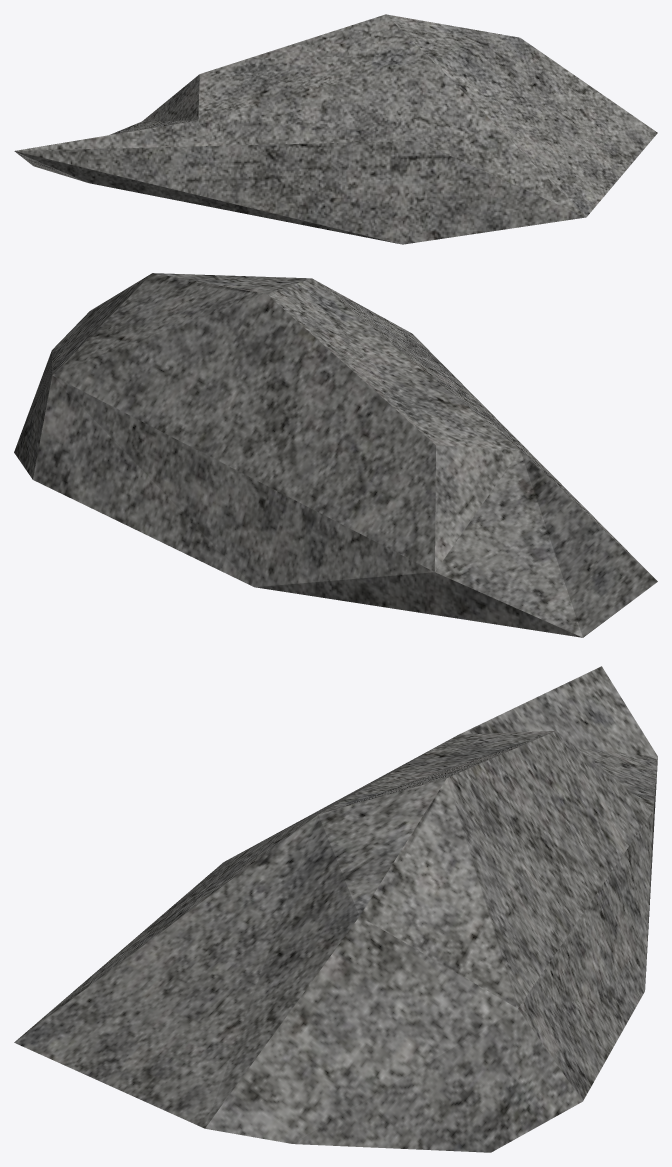
Rendered from roccia_piccola_9.fbx.
3 views of the same model, one above another, from view 1: azimuth 30°, elevation 25°; view 2: azimuth 150°, elevation 25°; view 3: azimuth 270°, elevation 25° (orthographic). The views are drawn at different scales.
Parts seen in each view (by area): view 1: roccia_piccola_9; view 2: roccia_piccola_9; view 3: roccia_piccola_9.
Part boxes in pixels (<box>): roccia_piccola_9: <box>14,14,657,244</box>; roccia_piccola_9: <box>14,273,657,637</box>; roccia_piccola_9: <box>14,666,657,1152</box>.
Bounding box in the file's own units: 20.32 × 5.71 × 12.99.
